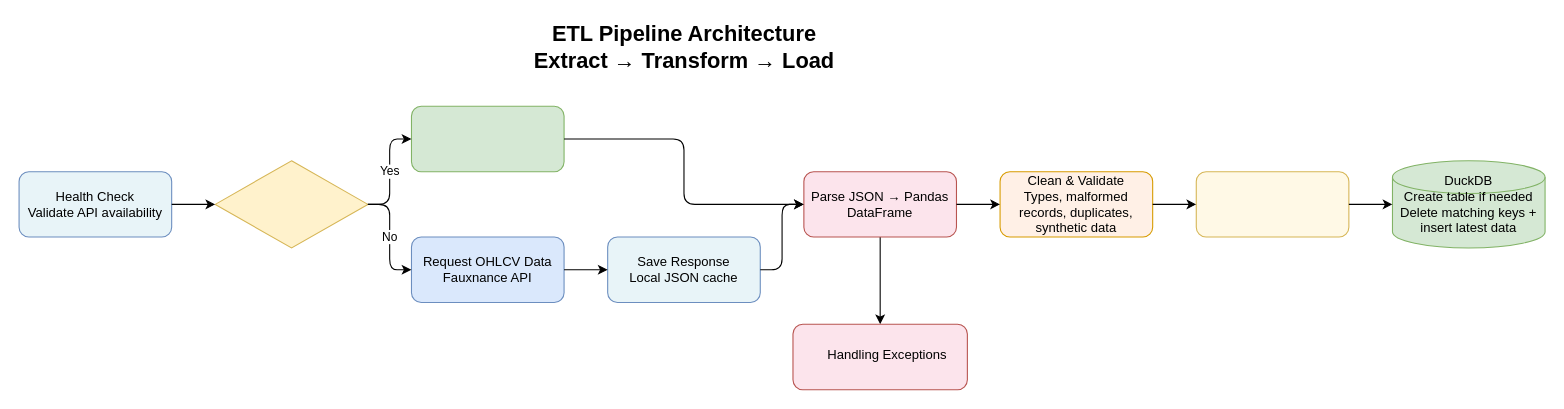
Image size: 1564x409. Some labels were removed from this diagram. Each missing label, with the centre of its shape:
Cache Lookup Symbol + date range: (x=291, y=204)
Feature Engineering Daily return % Trading range: (x=1272, y=204)
Reuse Cached JSON Avoid API request: (x=487, y=138)
